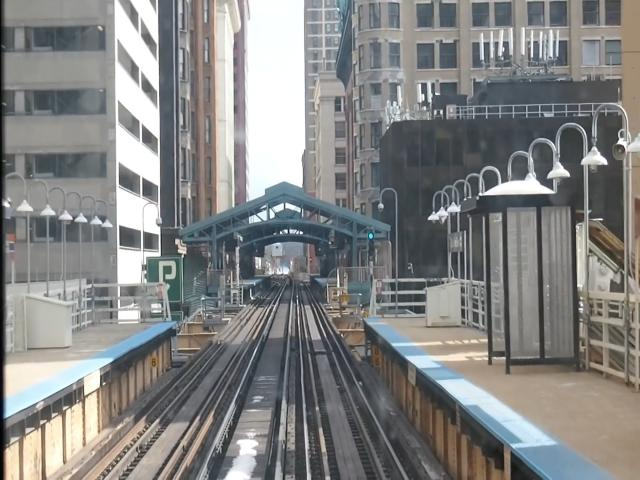signal light: (368, 232, 378, 264)
